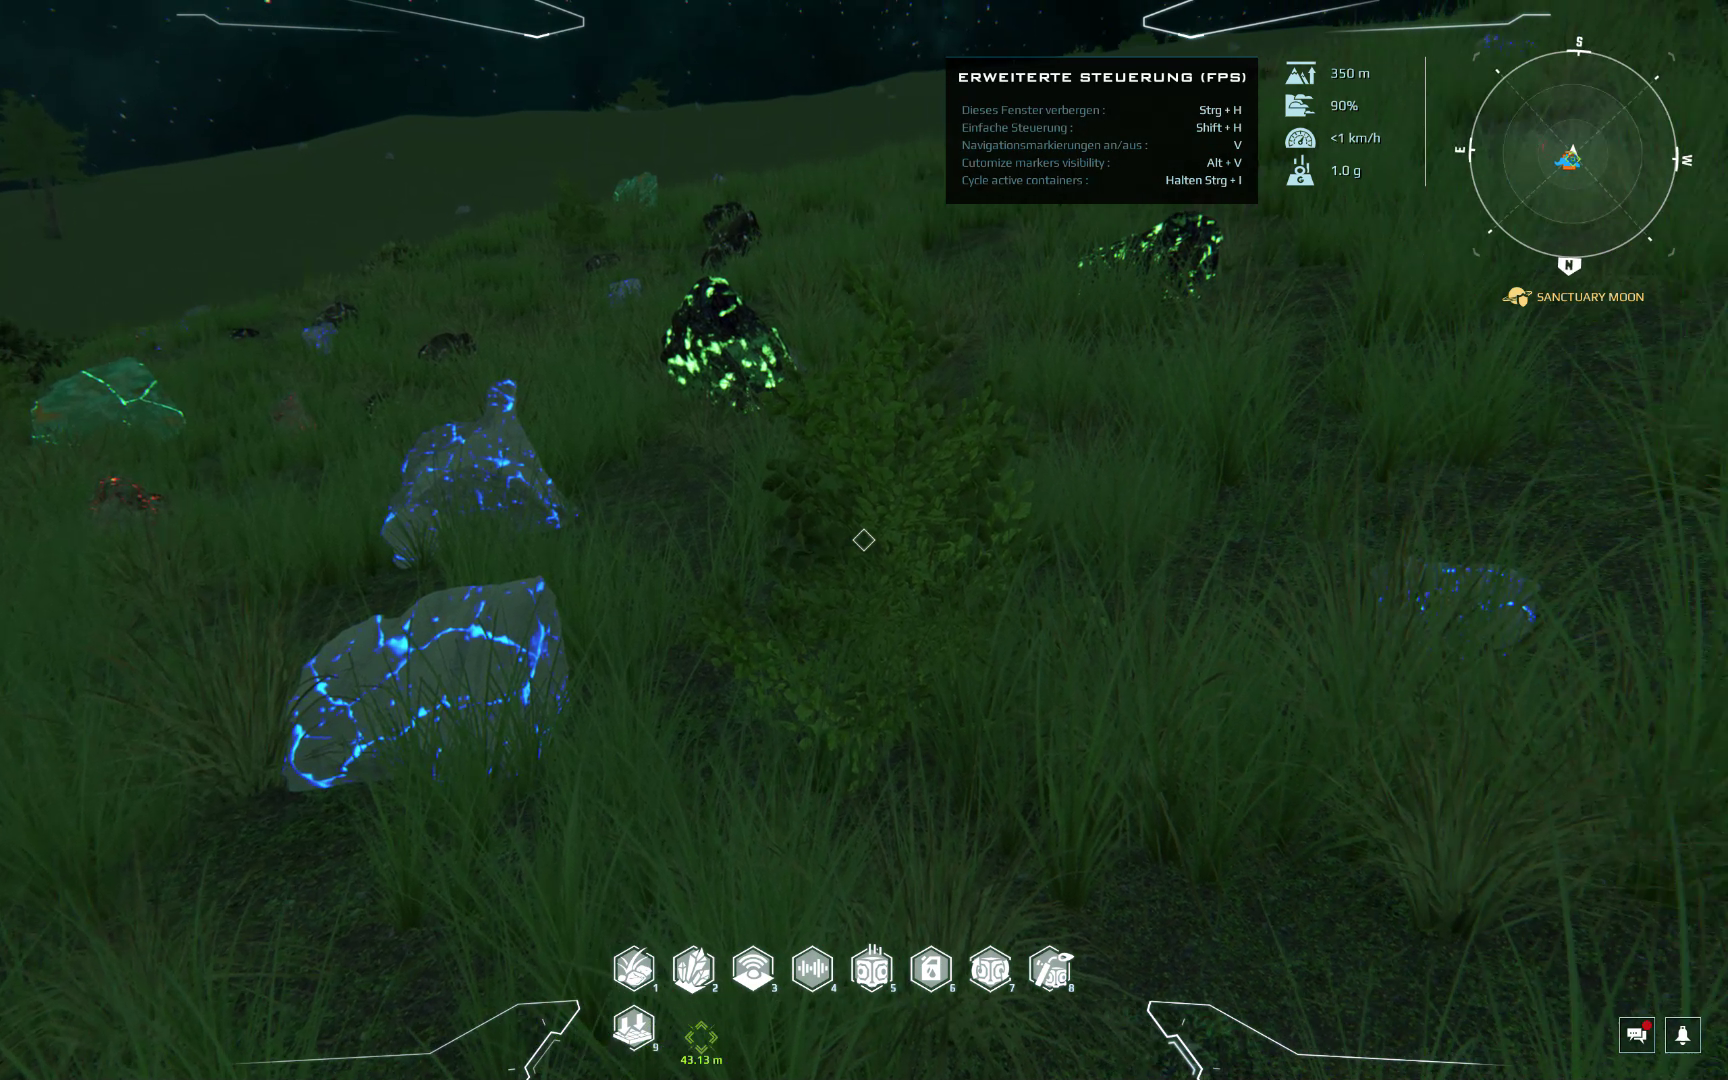Ore: (256, 575, 581, 794), (366, 375, 582, 572), (657, 270, 806, 419), (1354, 545, 1550, 654), (24, 353, 188, 457), (1072, 208, 1230, 309), (82, 473, 173, 525), (702, 210, 763, 272), (413, 326, 480, 366), (612, 168, 663, 210), (695, 192, 741, 231), (296, 324, 346, 358), (315, 304, 365, 332), (577, 246, 625, 272), (218, 322, 261, 345), (607, 275, 644, 299)
